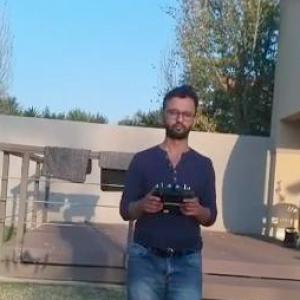follow: (112, 77, 221, 299)
